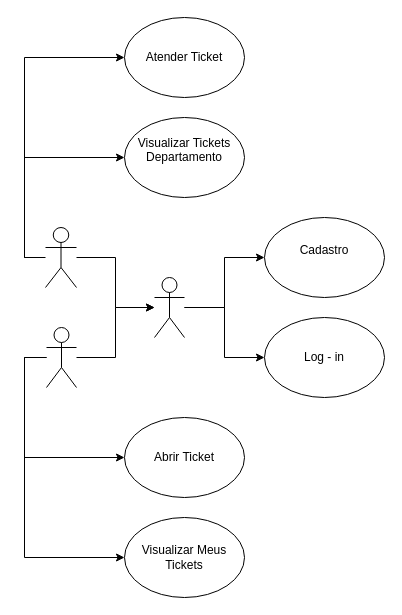
Some shapes in this 402 by 615 pixel diagram are drawn without their labels. The centre of each missing label's shape, as x and y in pixels:
"Atendente" belongs at point (60, 257).
"Solicitante" belongs at point (61, 357).
"Usuário" belongs at point (169, 307).
